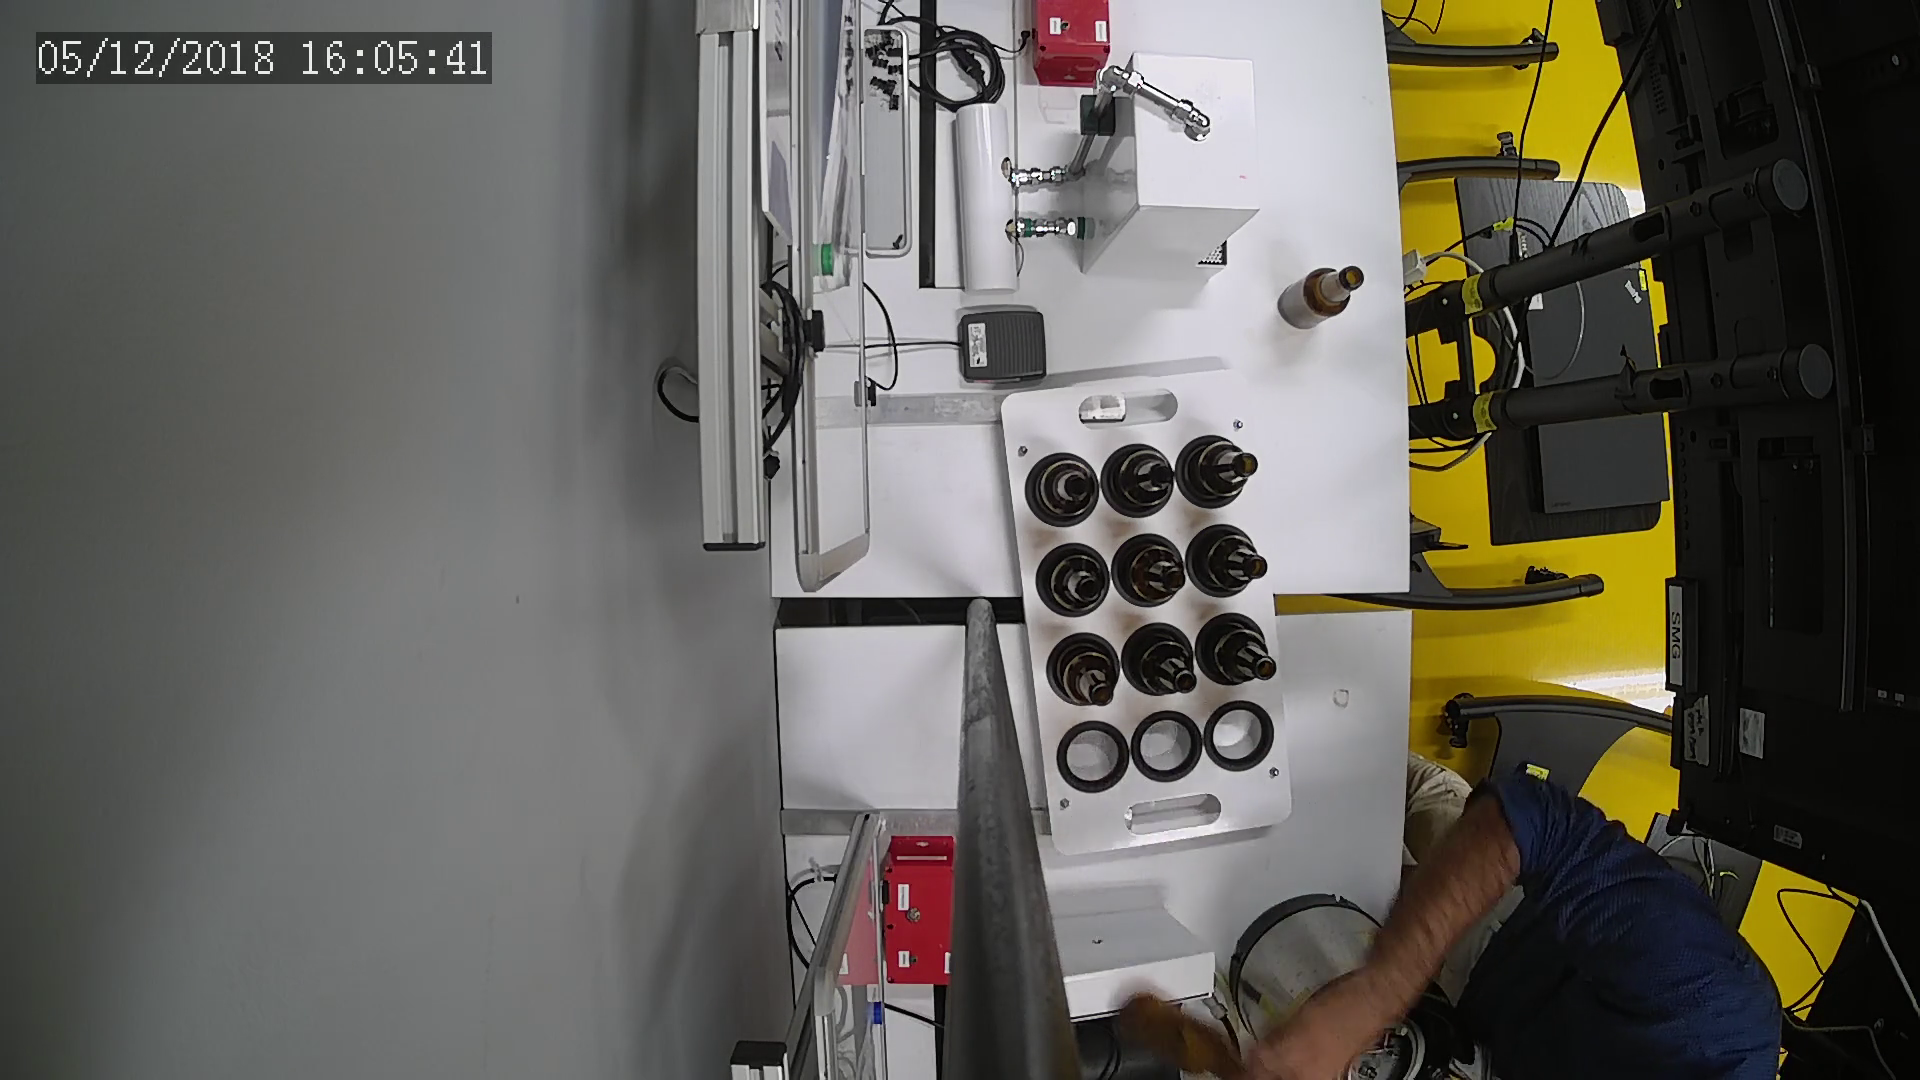filled_bottle: (1120, 622, 1203, 715), (1199, 611, 1287, 695), (1182, 518, 1270, 601), (1095, 433, 1176, 520), (1179, 430, 1258, 512), (1025, 545, 1108, 620), (1048, 630, 1120, 716), (1116, 531, 1187, 611), (1029, 454, 1098, 527)
trolley: (996, 368, 1304, 849)
unfilled_bottle: (1274, 258, 1370, 338)
